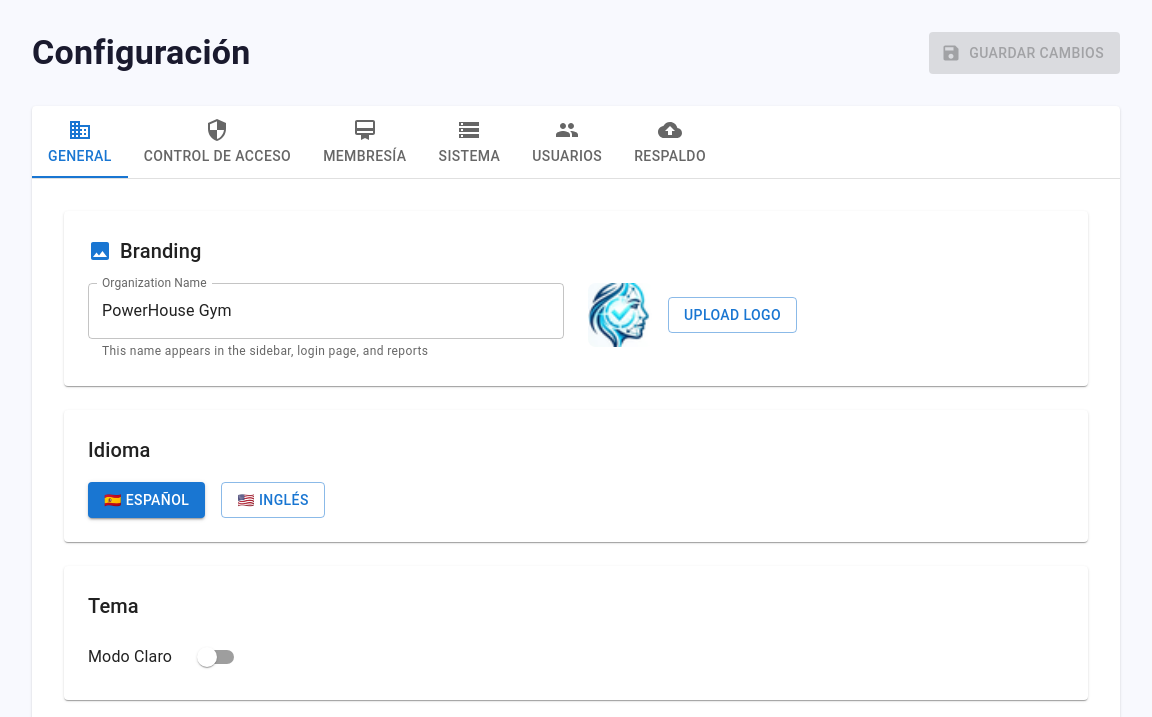
it: Settings — Backup tab (remote backup config) › admin: transport Select renders the 6 options none/rsync/sftp/ftp/smb/nfs
The width and height of the screenshot is (1152, 717).
Click the tab "Respaldo": (670,142) [618, 106, 722, 178]
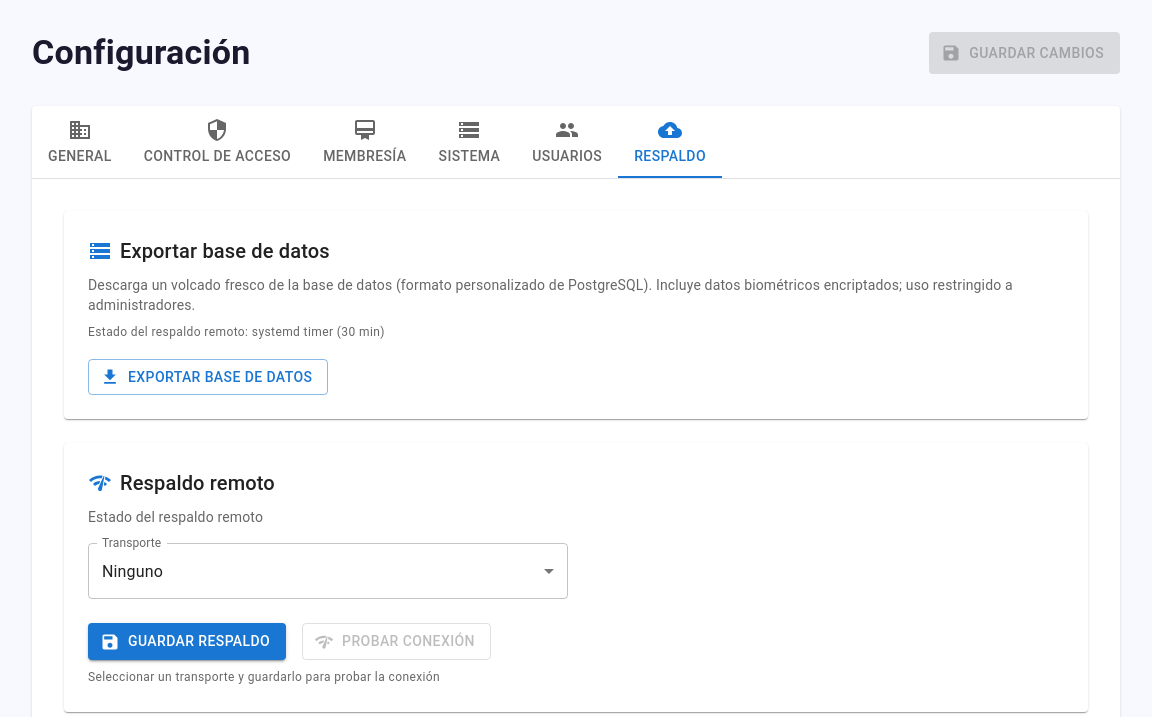
Click the dropdown labelled "Ninguno": (132,571) [102, 562, 163, 581]
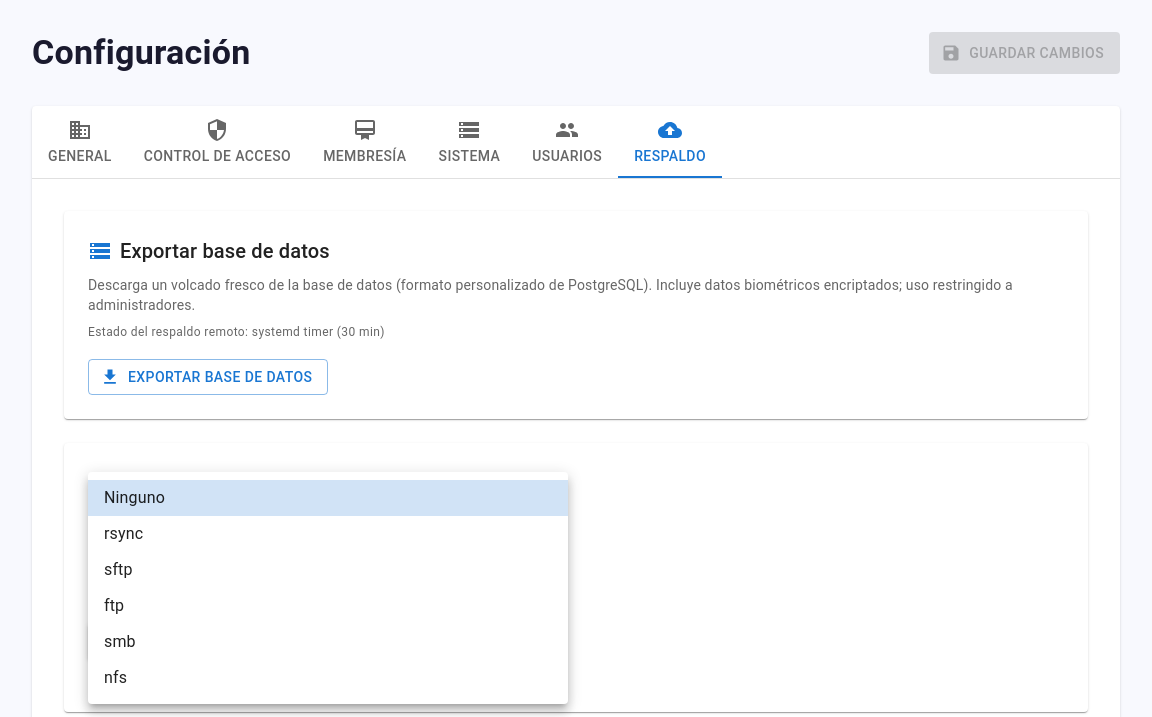
Check: the number of options is 6, box [88, 480, 568, 516]; [104, 524, 143, 543]; [104, 560, 133, 579]; [104, 596, 124, 615]; [104, 632, 136, 651]; [104, 668, 127, 687]
